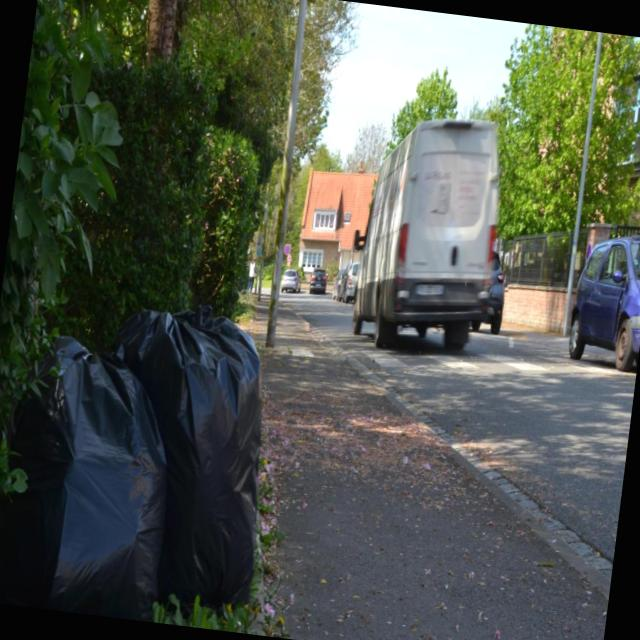garbage: (0, 264, 303, 635)
